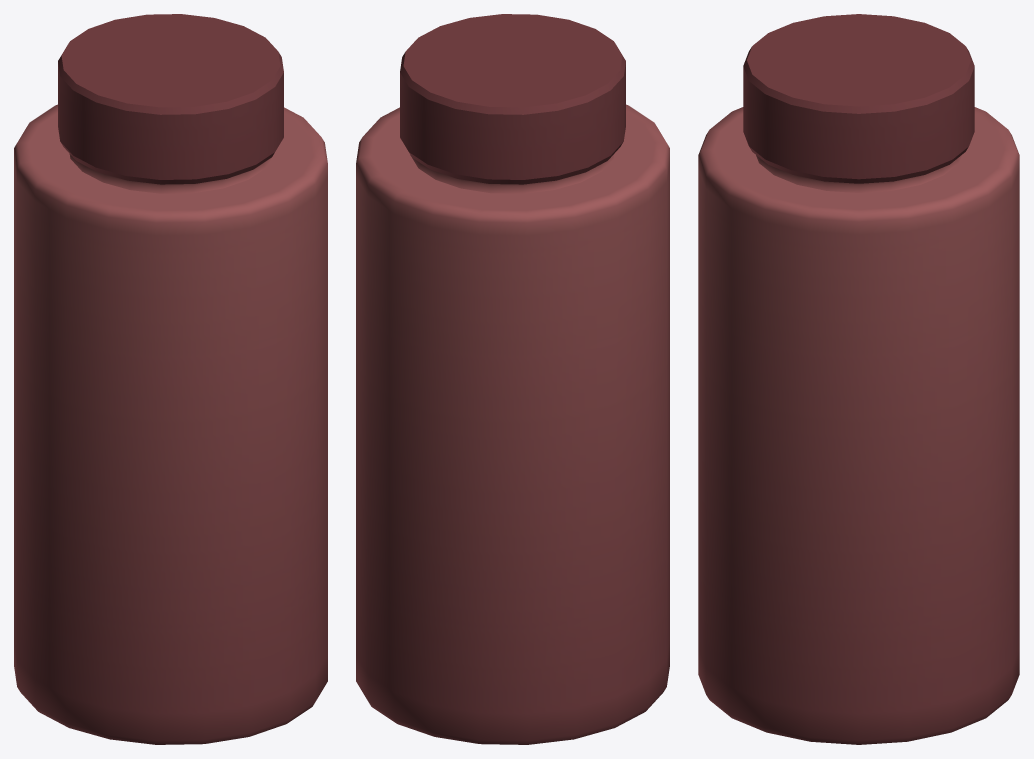
File: bottle_flat_darkRed.fbx
3 views of the same model, side by side, from view 1: azimuth 30°, elevation 25°; view 2: azimuth 150°, elevation 25°; view 3: azimuth 270°, elevation 25° (orthographic).
Visible parts, largest first — view 1: bottle_flat_darkRed; view 2: bottle_flat_darkRed; view 3: bottle_flat_darkRed.
Boxes of the visible parts, bbox=[...] form: bottle_flat_darkRed: bbox=[14, 14, 327, 744]; bottle_flat_darkRed: bbox=[356, 14, 669, 744]; bottle_flat_darkRed: bbox=[698, 14, 1019, 744].
Size of the model in its own units: 107 by 234 by 110.
